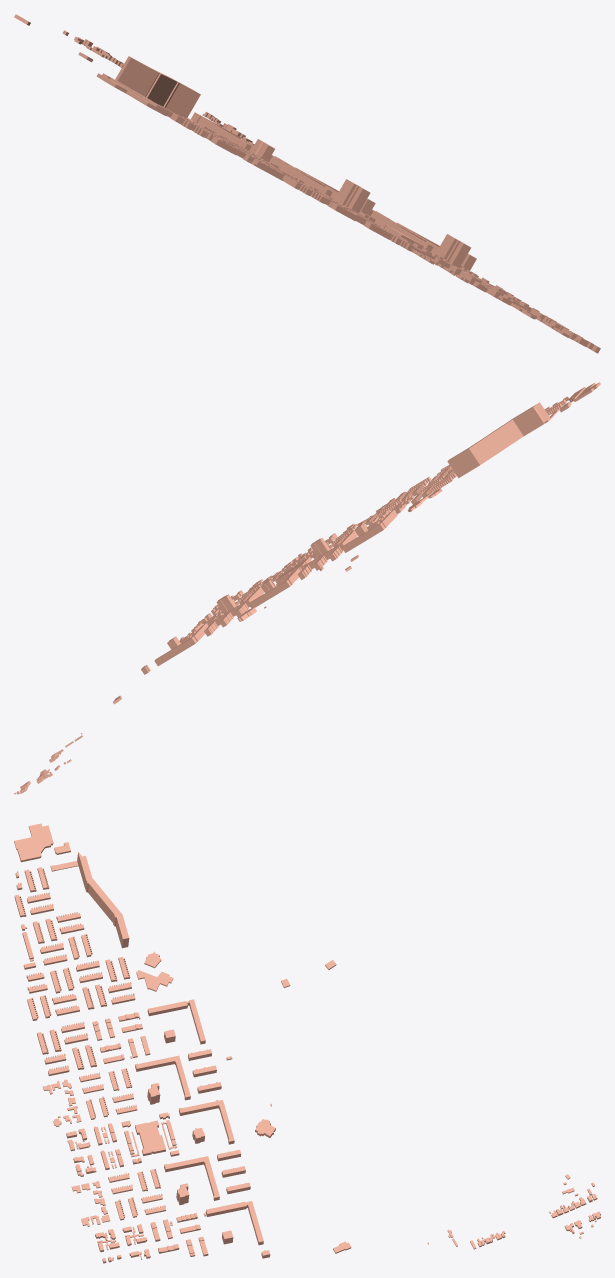
3 views of the same model, one above another, from view 1: azimuth 30°, elevation 25°; view 2: azimuth 150°, elevation 25°; view 3: azimuth 270°, elevation 25° (orthographic). The views are drawn at different scales.
Bounding box in the file's own units: 844 × 657 × 1264.
